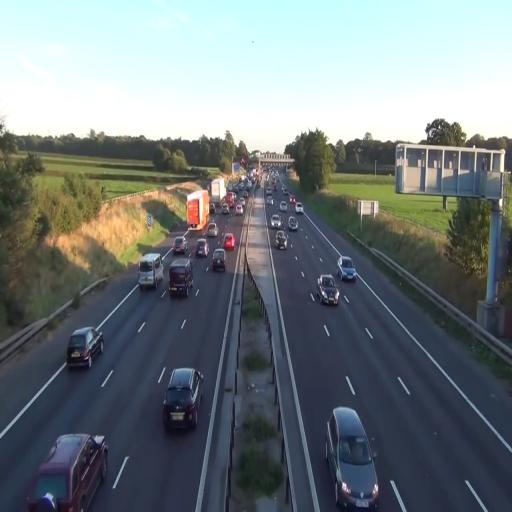vehicle: (25, 432, 108, 512), (27, 434, 107, 511), (326, 406, 379, 511), (326, 407, 378, 511), (162, 366, 204, 433), (163, 368, 203, 431), (67, 326, 103, 370), (67, 327, 103, 369), (186, 190, 210, 240), (170, 258, 194, 299), (138, 253, 163, 290), (169, 259, 193, 297), (187, 190, 209, 230), (138, 254, 163, 289), (318, 274, 340, 306), (317, 275, 339, 305), (336, 256, 358, 282), (337, 256, 356, 282), (210, 248, 227, 271), (211, 178, 226, 204), (272, 226, 288, 250), (194, 238, 210, 258), (222, 231, 236, 253), (212, 249, 226, 271), (172, 235, 187, 254), (274, 230, 288, 249), (173, 237, 188, 254), (222, 234, 236, 250), (276, 231, 287, 249), (288, 215, 299, 230), (207, 223, 218, 237), (226, 192, 235, 209), (288, 217, 298, 231), (271, 215, 281, 228), (295, 203, 303, 214), (235, 205, 243, 215), (222, 203, 229, 214), (230, 185, 239, 193), (280, 202, 287, 211), (210, 202, 215, 214), (239, 197, 245, 206), (282, 187, 288, 195), (267, 196, 273, 204), (243, 190, 249, 198), (290, 195, 295, 204), (246, 181, 251, 190), (228, 182, 233, 191), (266, 187, 271, 194), (273, 183, 277, 191), (239, 175, 243, 182), (273, 178, 276, 185)
